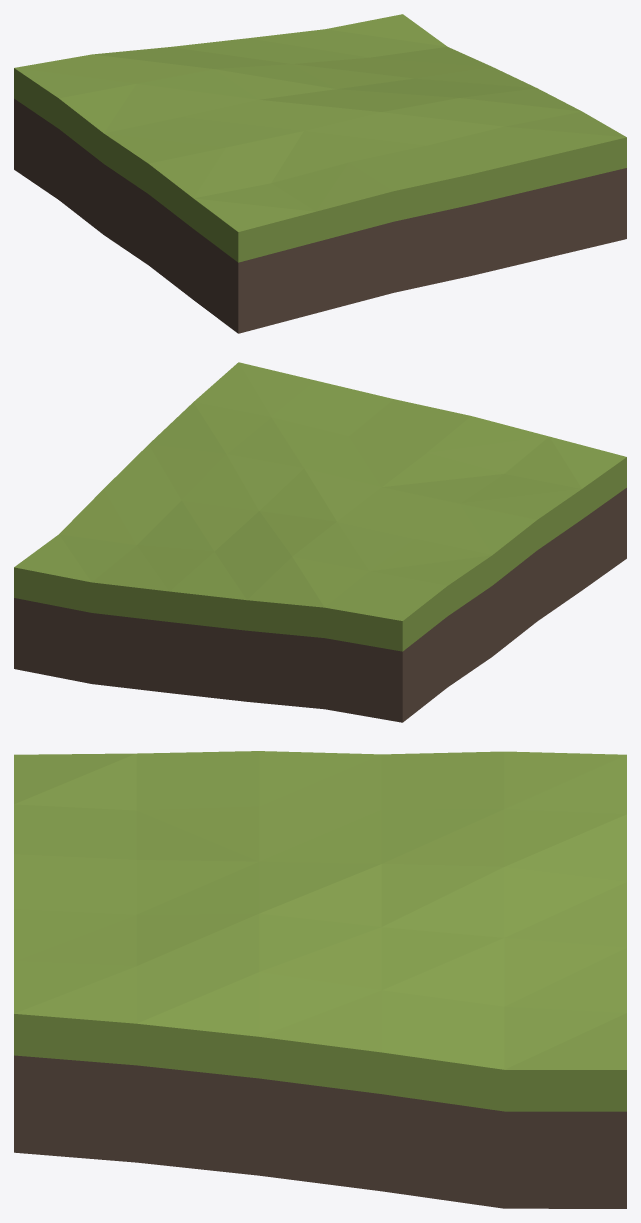
The model's file is terrain-world-valley_01-1.fbx.
The picture shows the model from 3 angles, top to bottom: view 1: azimuth 30°, elevation 25°; view 2: azimuth 150°, elevation 25°; view 3: azimuth 270°, elevation 25°; orthographic projection. The views are drawn at different scales.
Parts seen in each view (by area): view 1: terrain-world-valley_01-1; view 2: terrain-world-valley_01-1; view 3: terrain-world-valley_01-1.
Boxes of the visible parts, <box> form: terrain-world-valley_01-1: <box>14,14,626,333</box>; terrain-world-valley_01-1: <box>14,362,626,722</box>; terrain-world-valley_01-1: <box>14,751,626,1208</box>.
Size of the model in its own units: 20.01 by 20 by 7.17.
